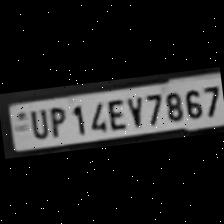1: (64, 100, 86, 135)
4: (82, 97, 108, 131)
6: (179, 84, 202, 120)
7: (198, 79, 222, 117), (140, 90, 163, 124)
8: (160, 87, 184, 122)
E: (103, 95, 127, 130)
P: (43, 102, 68, 136)
U: (24, 104, 49, 138)
V: (122, 92, 146, 127)
